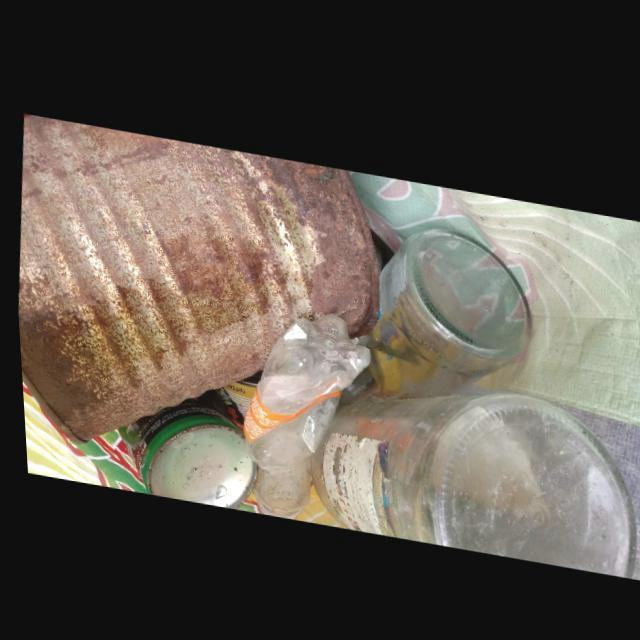aluminum: (14, 114, 374, 443), (112, 398, 249, 506)
glass_bottle: (303, 379, 630, 568), (334, 220, 523, 400)
plastic_bottle: (240, 306, 367, 515)
